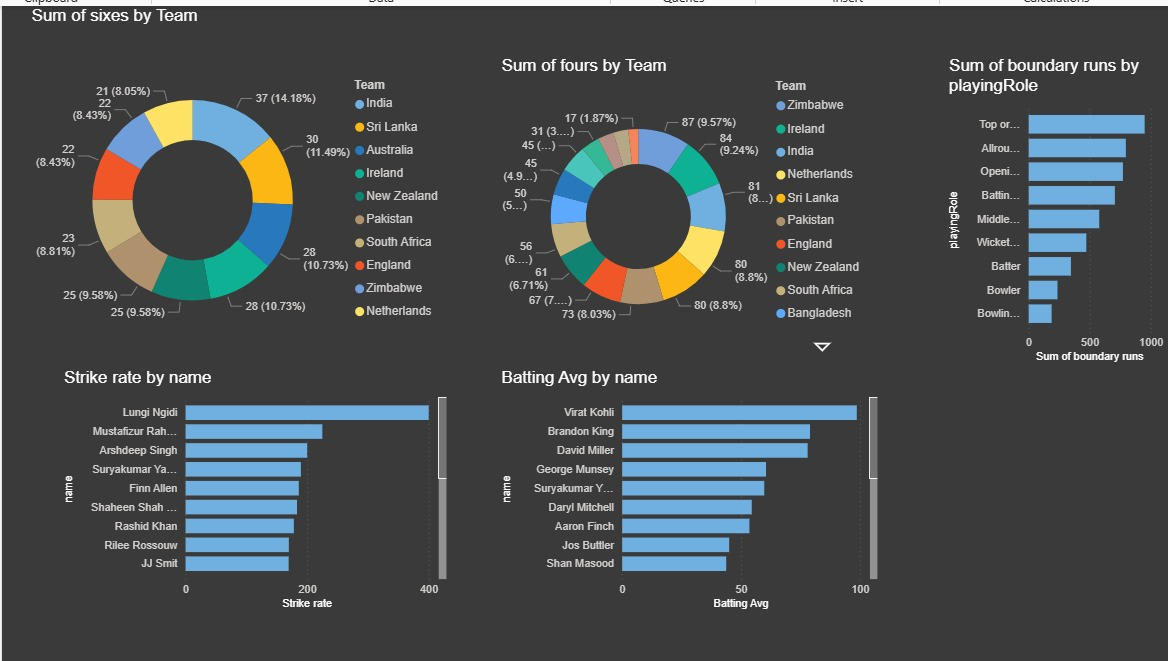

What the dashboard file says about the page in this screenshot:
{"tool":"powerbi","page":{"name":"Batsmen Data","canvas":[1280,720],"ordinal":1},"visuals":[{"type":"donutChart","fields":{"Category":["fact_batting_summary.Team"],"Y":["fact_batting_summary.sixes"]},"box":[27.4,0,465.2,406.2],"z":0},{"type":"clusteredBarChart","fields":{"Category":["dim_players.name"],"Y":["key_measures.Strike rate"]},"box":[63.1,396.6,429.5,270.3],"z":1000},{"type":"donutChart","fields":{"Category":["fact_batting_summary.Team"],"Y":["fact_batting_summary.fours"]},"box":[543.4,54.9,411.7,332.1],"z":2000},{"type":"clusteredBarChart","fields":{"Category":["dim_players.name"],"Y":["key_measures.Batting Avg"]},"box":[543.4,396.6,422.6,270.3],"z":3000},{"type":"clusteredBarChart","fields":{"Category":["dim_players.playingRole"],"Y":["fact_batting_summary.boundary runs"]},"box":[1034.7,54.9,245.6,341.7],"z":4000}]}

Visuals, with their boxes on the page's 1280x720 design canvas (x1, y1, x2, y2). These are canvas units, not pixel positions in the 1168x661 screenshot, which may show the page scaled, cropped or inside an application window:
donutChart - fact_batting_summary.Team x fact_batting_summary.sixes: locate(27, 0, 493, 406)
clusteredBarChart - dim_players.name x key_measures.Strike rate: locate(63, 397, 493, 667)
donutChart - fact_batting_summary.Team x fact_batting_summary.fours: locate(543, 55, 955, 387)
clusteredBarChart - dim_players.name x key_measures.Batting Avg: locate(543, 397, 966, 667)
clusteredBarChart - dim_players.playingRole x fact_batting_summary.boundary runs: locate(1035, 55, 1280, 397)
